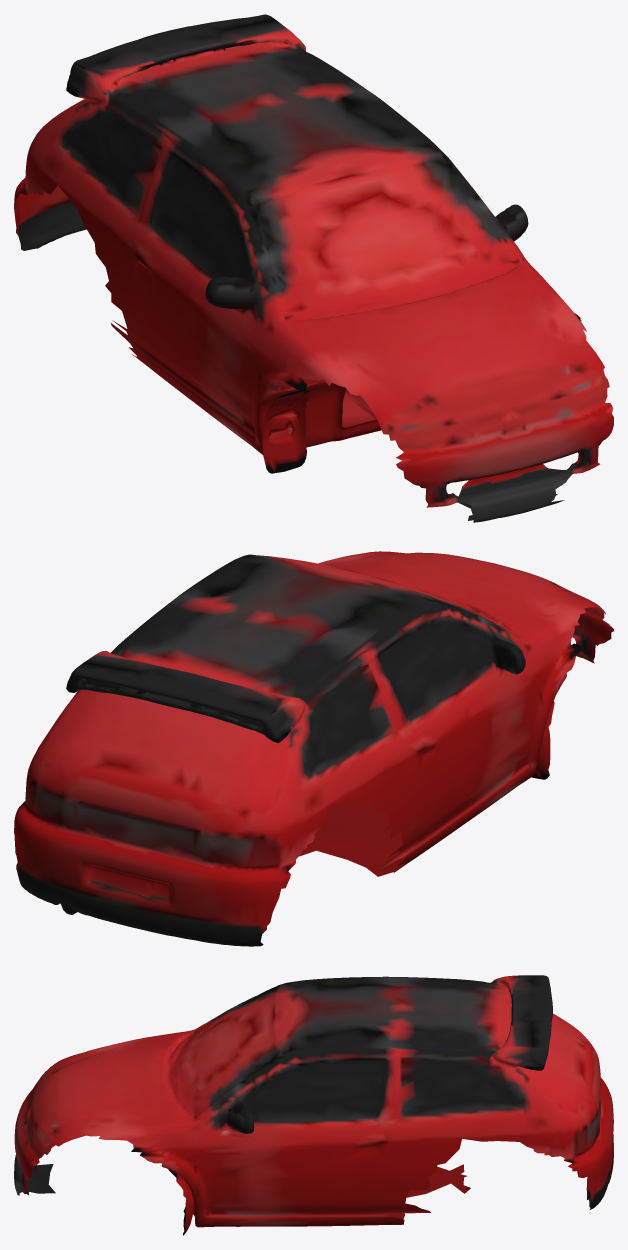
File: hatch.glb
3 views of the same model, one above another, from view 1: azimuth 30°, elevation 25°; view 2: azimuth 150°, elevation 25°; view 3: azimuth 270°, elevation 25° (orthographic). The views are drawn at different scales.
Visible parts, largest first — view 1: geometry_0; view 2: geometry_0; view 3: geometry_0.
Part boxes in pixels (bbox=[...]): geometry_0: bbox=[14, 14, 613, 522]; geometry_0: bbox=[14, 551, 613, 946]; geometry_0: bbox=[14, 975, 613, 1235].
Size of the model in its own units: 1.82 by 1.28 by 3.9.
